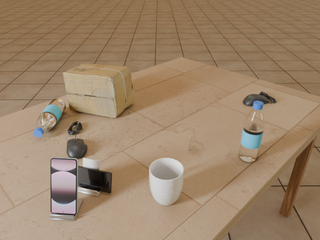bottle: (239, 101, 264, 162), (33, 99, 66, 137)
box: (63, 63, 135, 118)
cup: (149, 158, 184, 205)
mouse: (243, 92, 277, 106), (67, 139, 87, 159)
phone: (51, 157, 78, 215), (78, 166, 112, 193)
